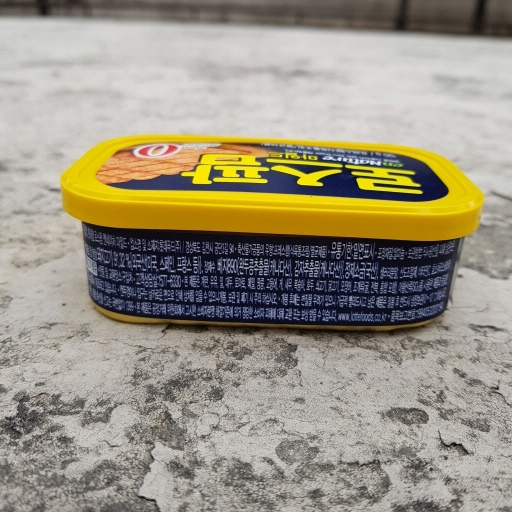Metal_2: (62, 133, 486, 335)
